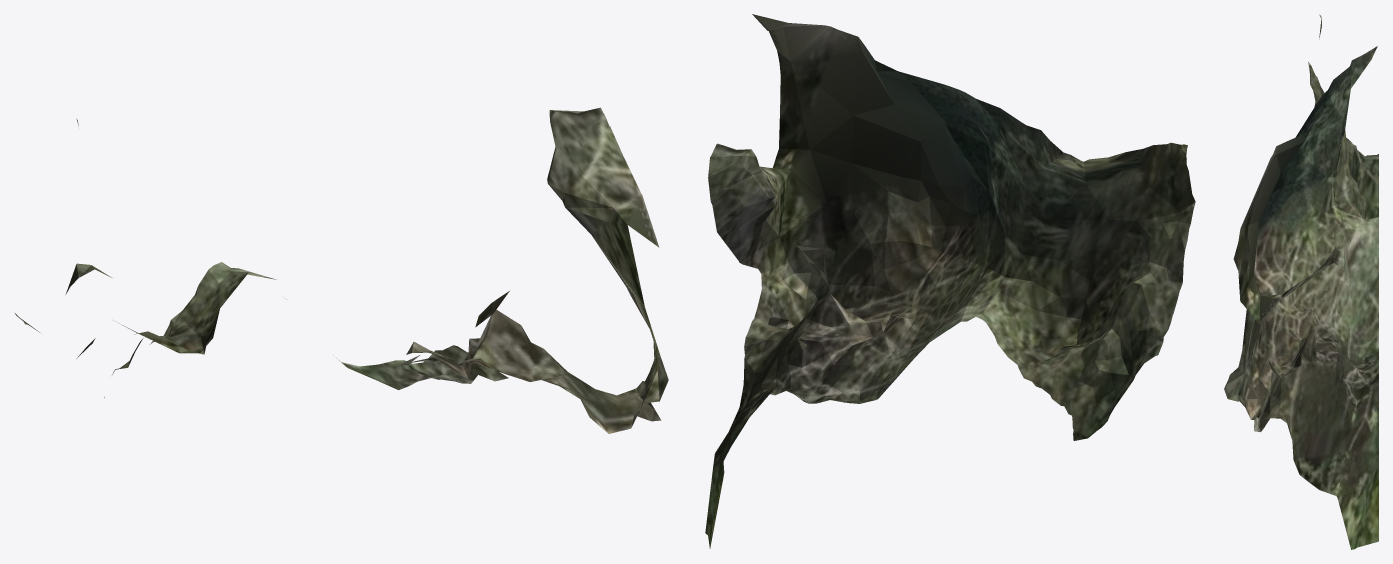
3 views of the same model, side by side, from view 1: azimuth 30°, elevation 25°; view 2: azimuth 150°, elevation 25°; view 3: azimuth 270°, elevation 25° (orthographic). The views are drawn at different scales.
Bounding box in the file's own units: 5.9 × 5.9 × 2.27.
2 materials, 2 textured.
